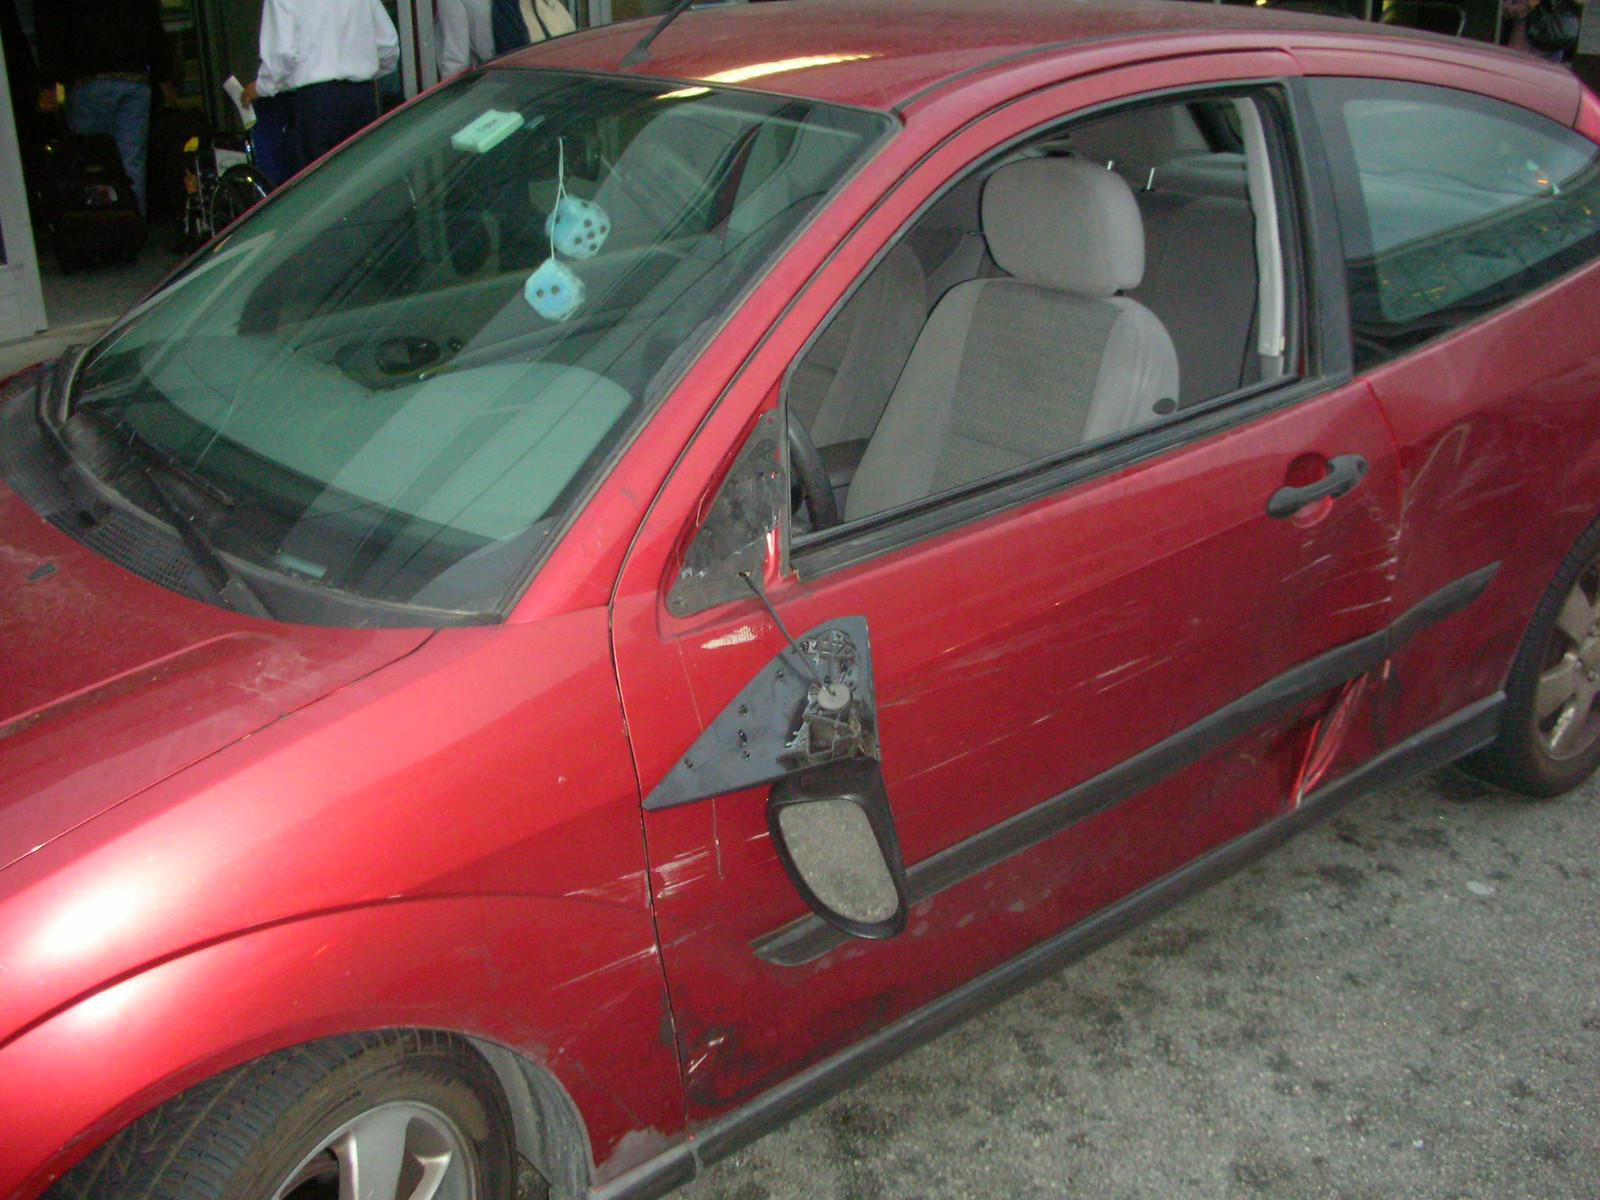doorouter-dent: (1089, 490, 1383, 922)
